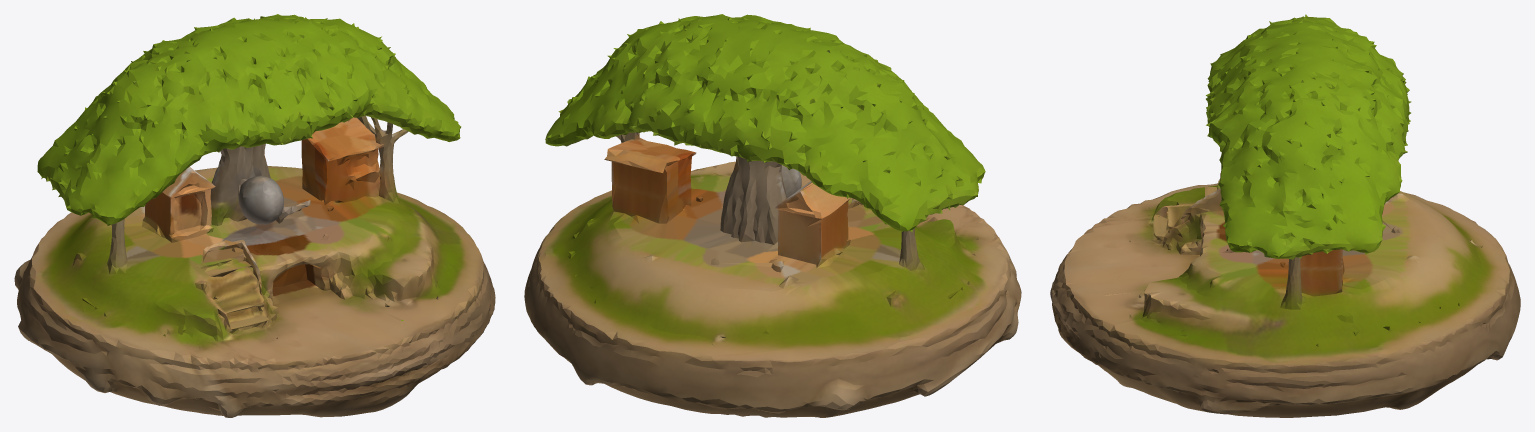
3 renders of one model, left to right at view 1: azimuth 30°, elevation 25°; view 2: azimuth 150°, elevation 25°; view 3: azimuth 270°, elevation 25°, orthographic. The views are drawn at different scales.
Visible parts, largest first — view 1: HiddenKingdom; view 2: HiddenKingdom; view 3: HiddenKingdom.
Part boxes in pixels (x1=…): HiddenKingdom: x1=14, y1=14, x2=495, y2=417; HiddenKingdom: x1=524, y1=14, x2=1021, y2=417; HiddenKingdom: x1=1050, y1=14, x2=1520, y2=417.
Bounding box in the file's own units: 1.89 × 1.3 × 1.89.
1 material, 1 textured.
